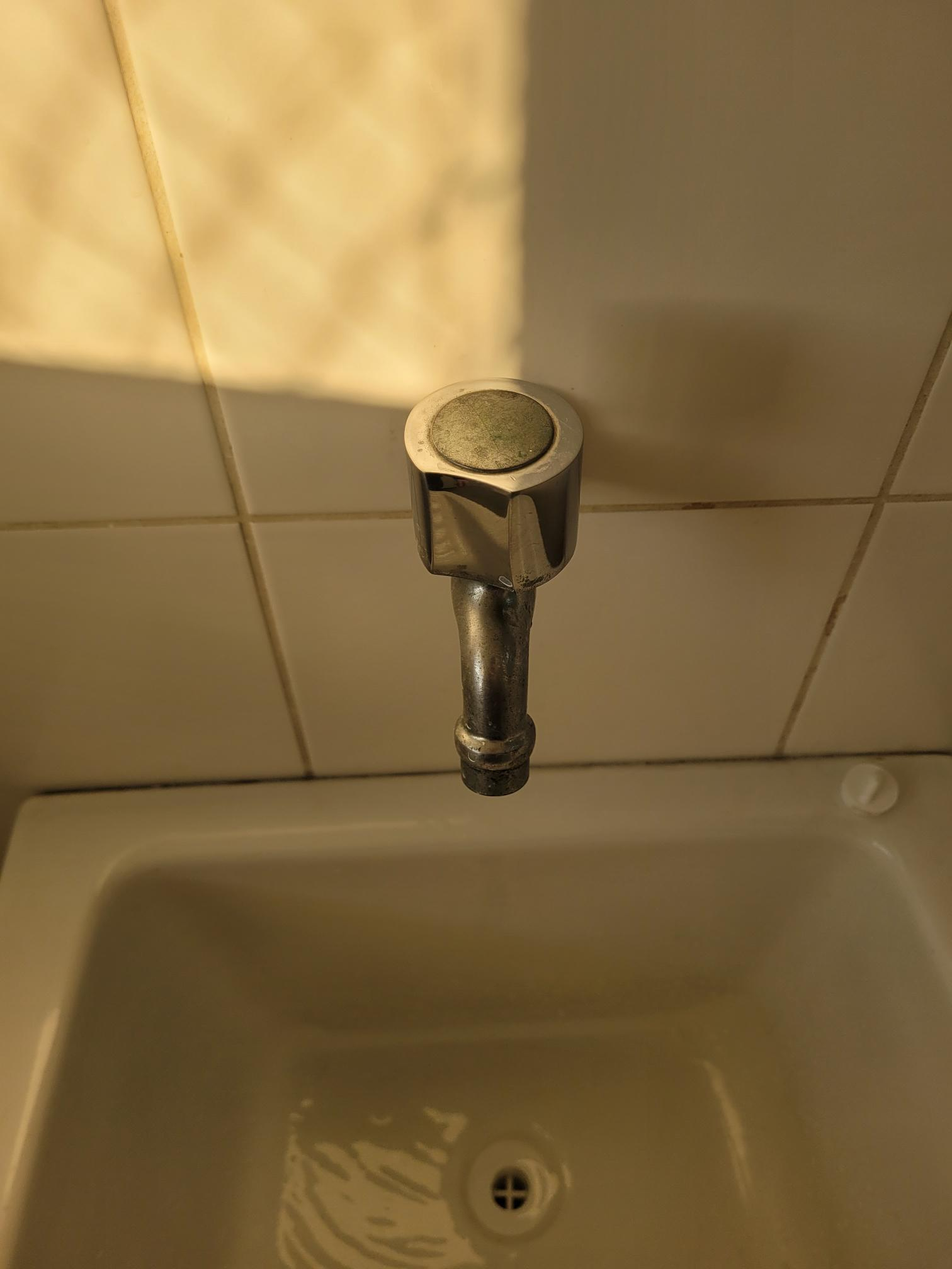torneira_fechada: (325, 319, 656, 828)
